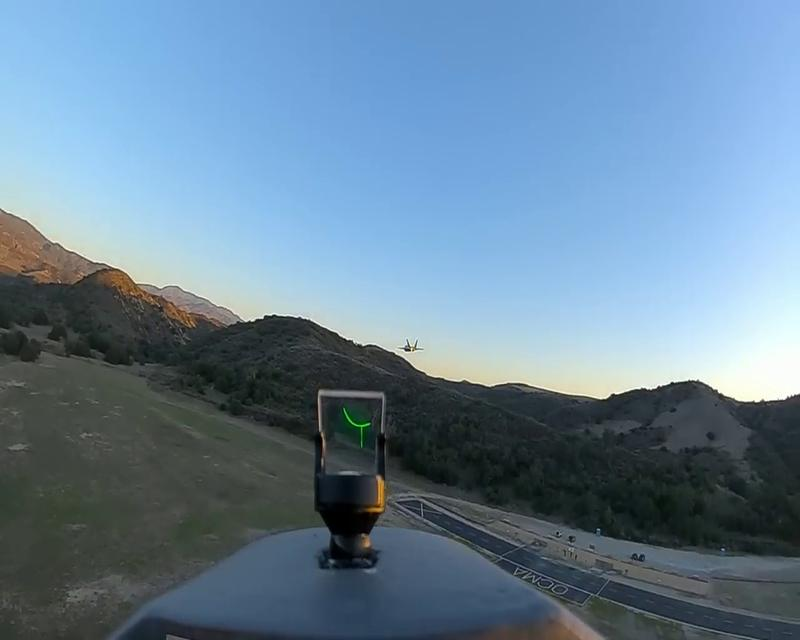UAV: (399, 339, 423, 353)
